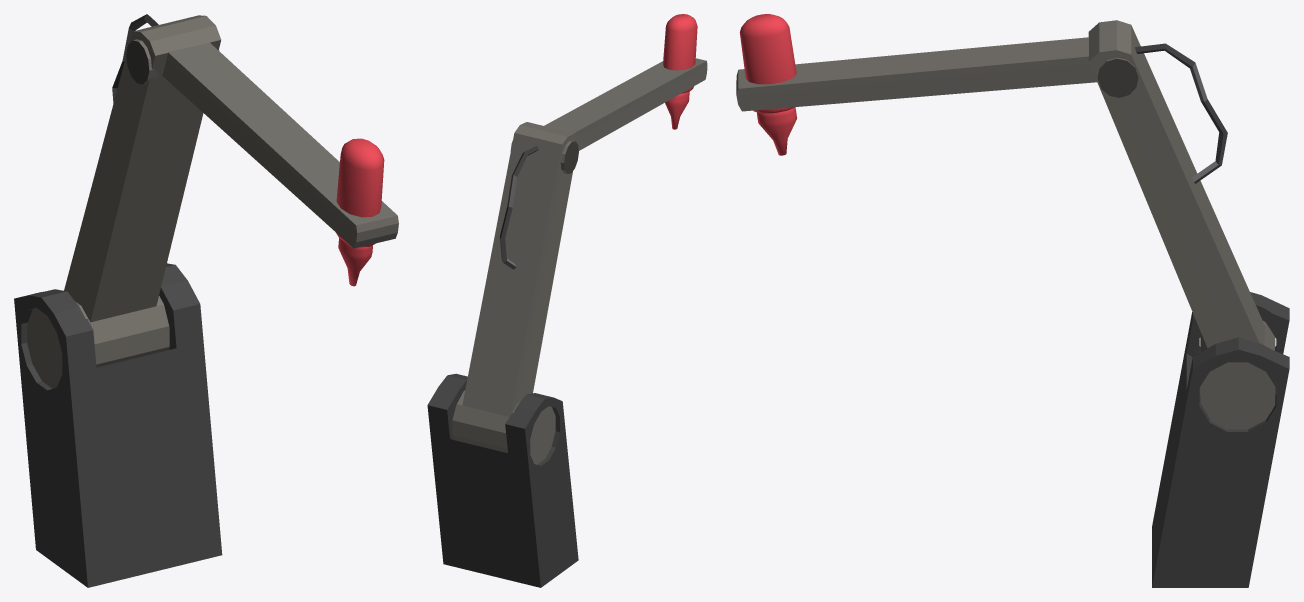
Rendered from sos.fbx.
3 renders of one model, left to right at view 1: azimuth 30°, elevation 25°; view 2: azimuth 150°, elevation 25°; view 3: azimuth 270°, elevation 25°, orthographic. The views are drawn at different scales.
Visible parts, largest first — view 1: Cube, sdfsdfsd, Cylinder.003, Sos; view 2: sdfsdfsd, Cube, Cylinder.003, Sos; view 3: sdfsdfsd, Cube, Cylinder.003, Sos.
Part boxes in pixels (x1,y1,x2,y2): Cube: [14, 263, 222, 587]; sdfsdfsd: [27, 15, 398, 388]; Cylinder.003: [335, 138, 384, 286]; Sos: [112, 14, 158, 103]; sdfsdfsd: [452, 58, 707, 464]; Cube: [427, 373, 578, 587]; Cylinder.003: [663, 14, 697, 129]; Sos: [499, 146, 538, 269]; sdfsdfsd: [736, 20, 1275, 429]; Cube: [1152, 292, 1289, 587]; Cylinder.003: [739, 14, 796, 155]; Sos: [1135, 43, 1227, 183].
Bounding box in the file's own units: 137 × 566 × 525.
